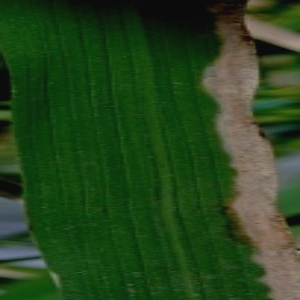Leaf_Blast: (135, 1, 272, 300)
